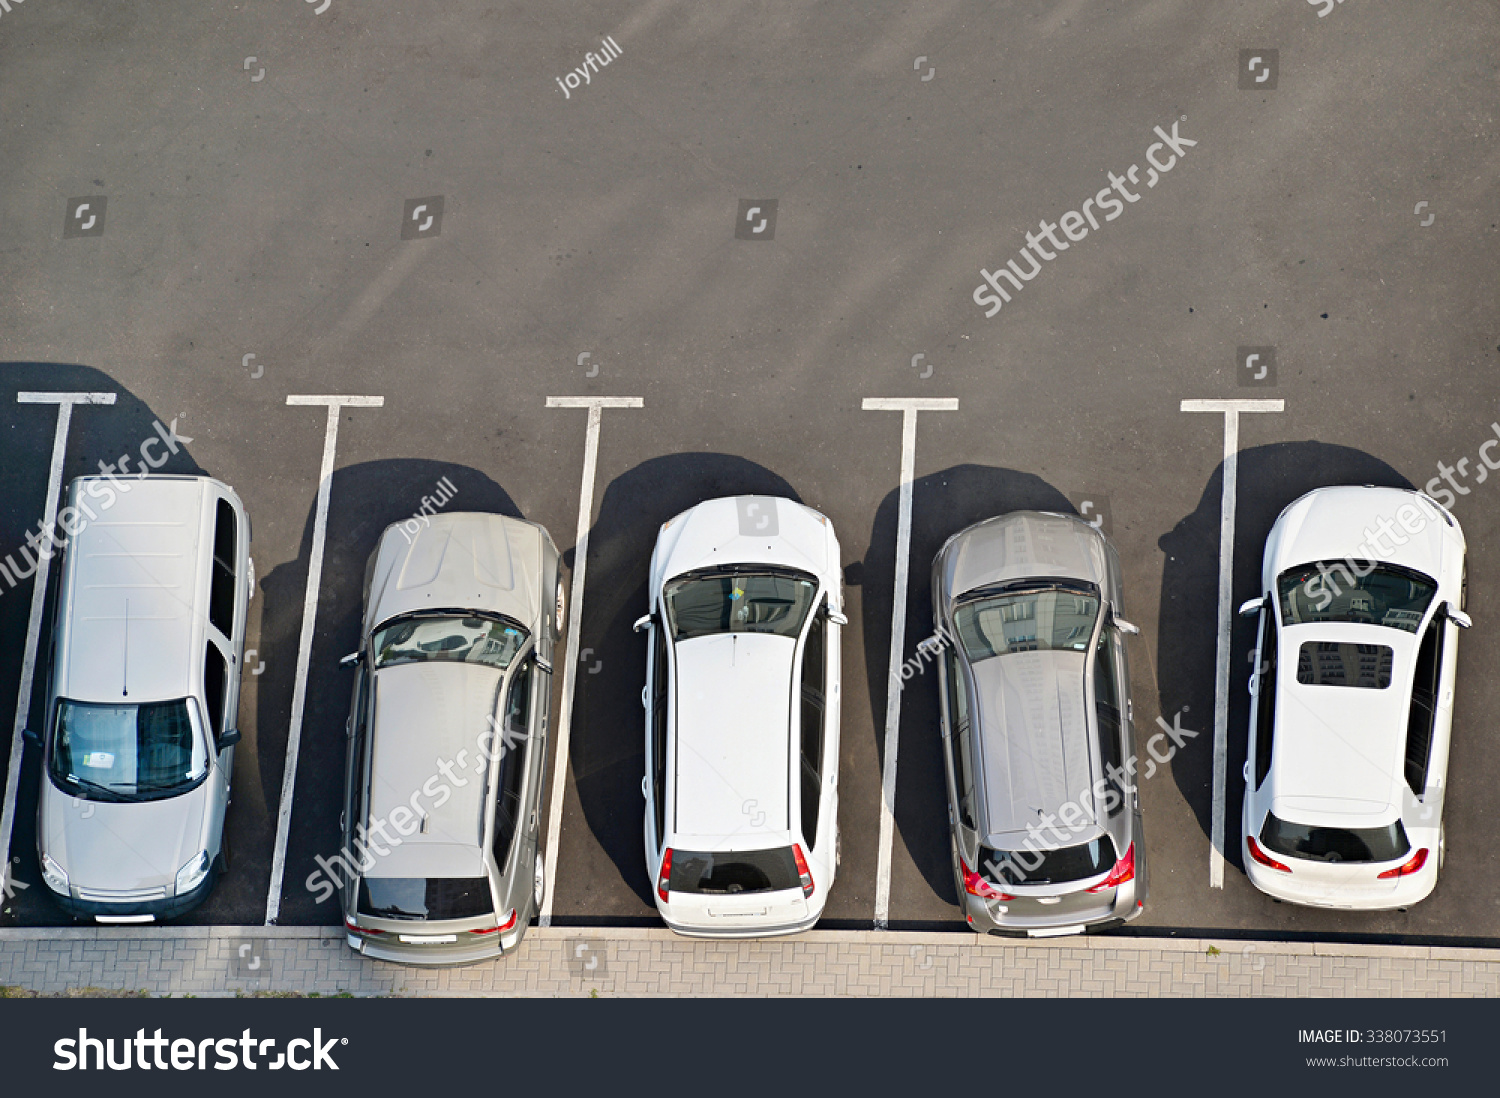Car: (324, 505, 580, 971), (1220, 481, 1474, 918), (38, 463, 266, 936), (624, 487, 852, 945), (933, 513, 1141, 941)
LaneMark: (1182, 456, 1265, 907), (852, 495, 928, 936), (252, 585, 339, 922), (286, 387, 398, 571), (542, 387, 646, 536), (847, 371, 985, 481), (1163, 369, 1301, 458), (21, 364, 123, 469), (13, 472, 68, 625)
